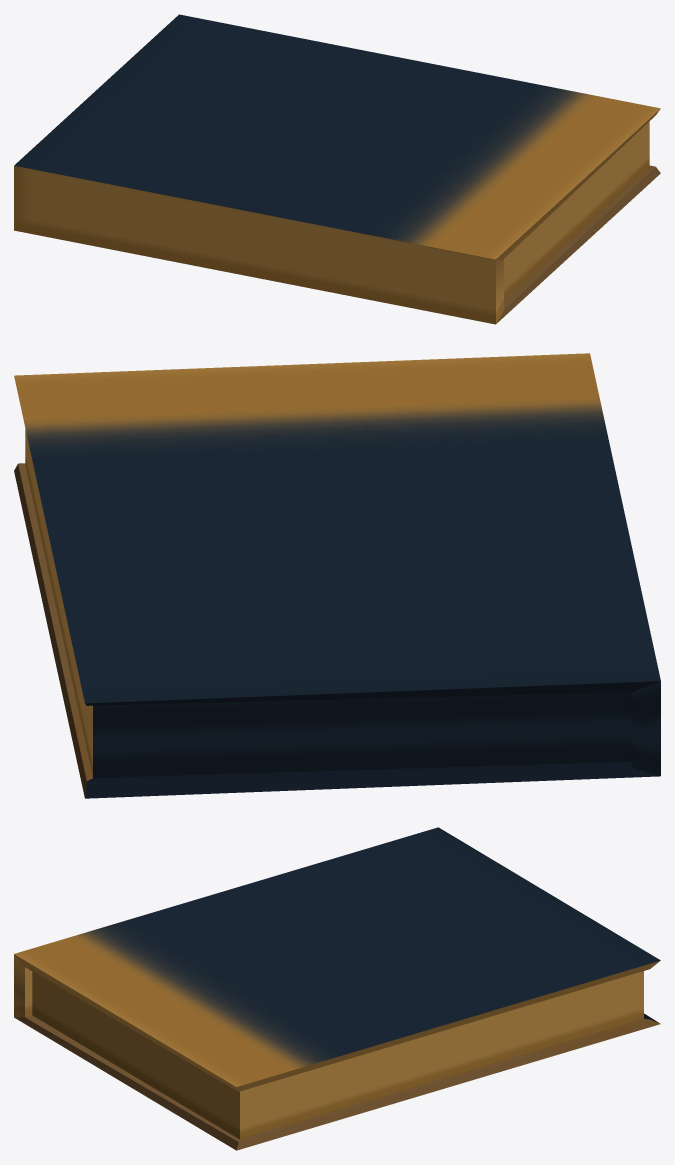
The model's file is SOD_Book_Asset.fbx.
The picture shows the model from 3 angles, top to bottom: view 1: azimuth 30°, elevation 25°; view 2: azimuth 150°, elevation 25°; view 3: azimuth 270°, elevation 25°; orthographic projection. The views are drawn at different scales.
Parts seen in each view (by area): view 1: SOD_Book_Asset; view 2: SOD_Book_Asset; view 3: SOD_Book_Asset.
Boxes of the visible parts, x1,y1,x2,y2 form: SOD_Book_Asset: [14, 14, 660, 324]; SOD_Book_Asset: [14, 353, 660, 798]; SOD_Book_Asset: [14, 827, 660, 1150].
Bounding box in the file's own units: 28.09 × 3.2 × 29.55.
Materials: 1 (1 with a texture image).
